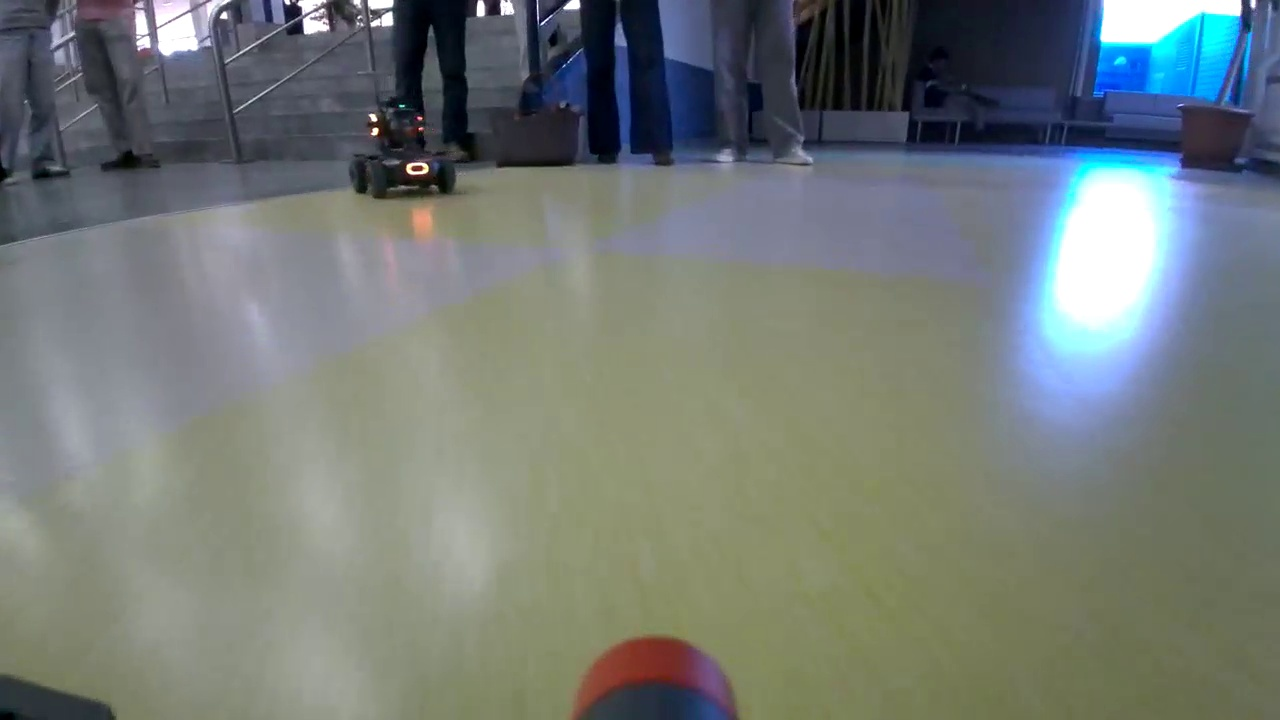robot: (346, 100, 457, 197)
